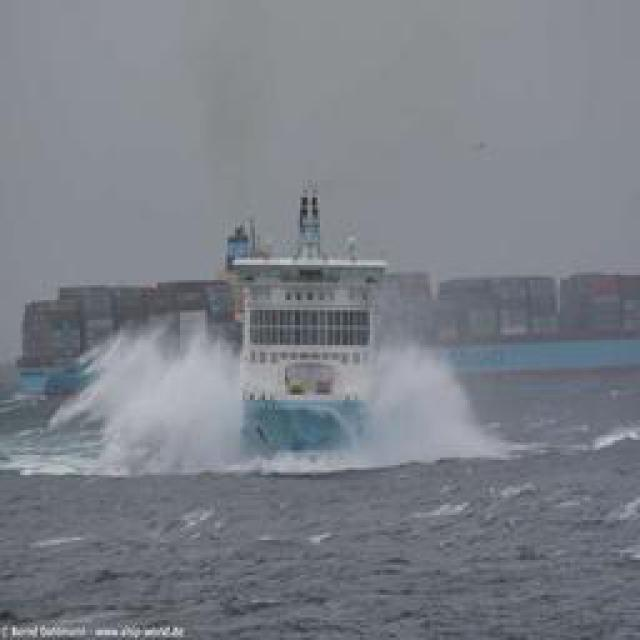Ship: (227, 171, 407, 461)
